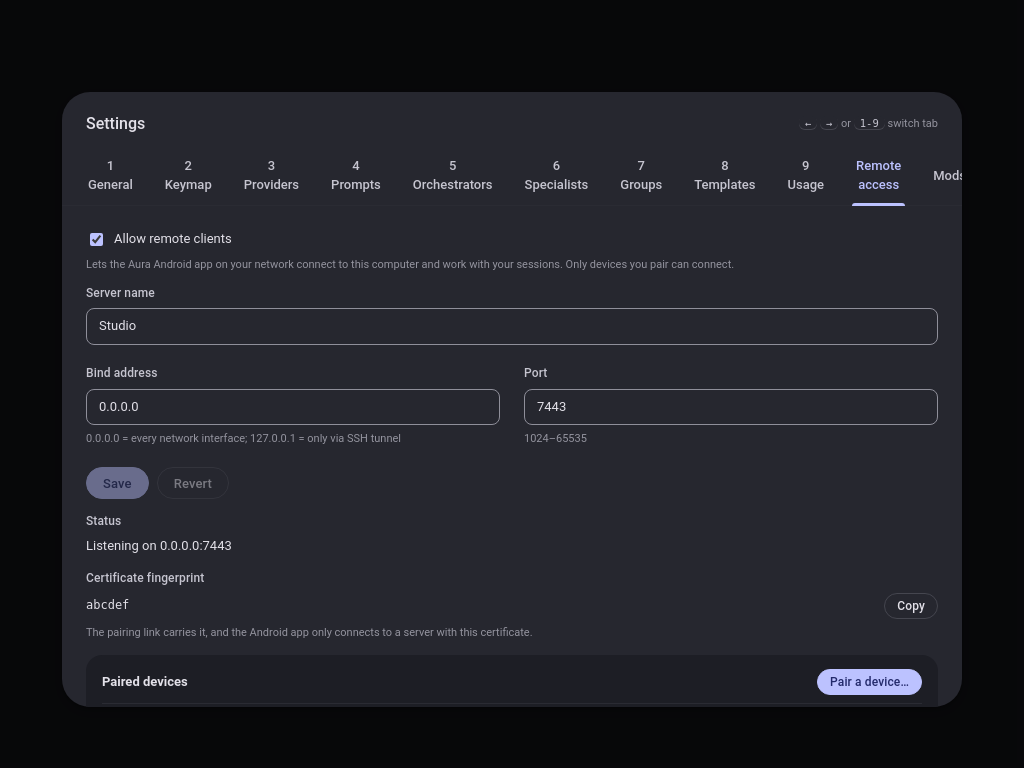
Test: shows a refused change inline and keeps the form
Step 1. Click the checkbox labelled "Allow remote clients" → (96, 240), box [90,233,103,246]
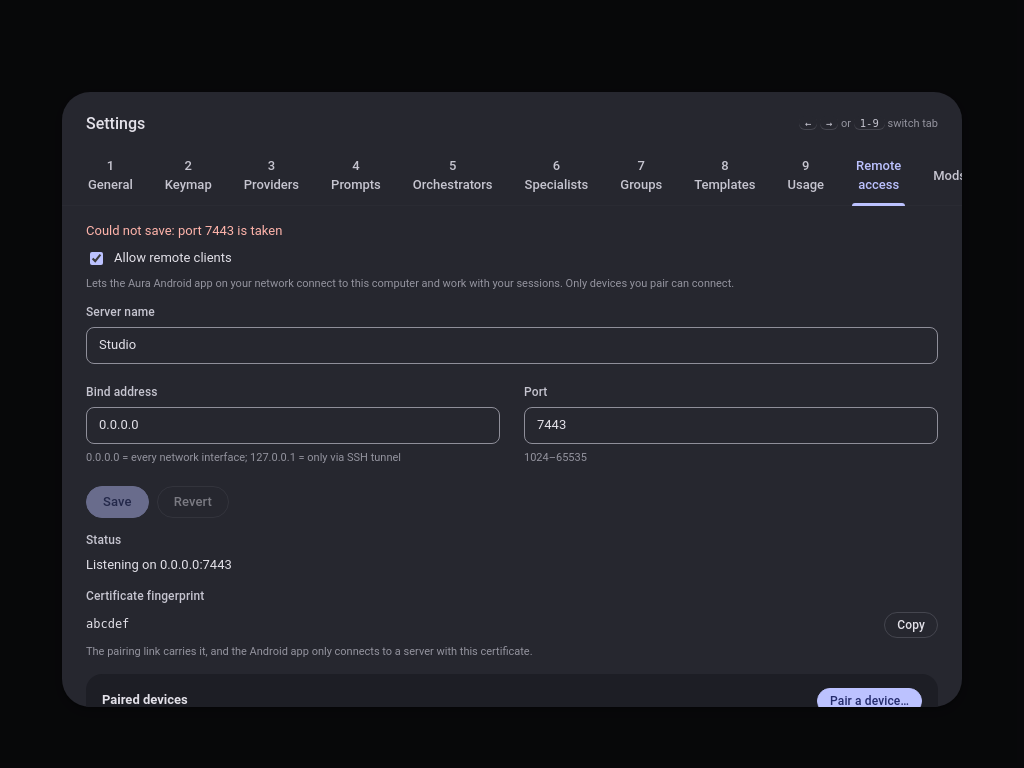
Check: the message "Could not save: port 7443 is taken" is shown, box [86,223,282,238]
